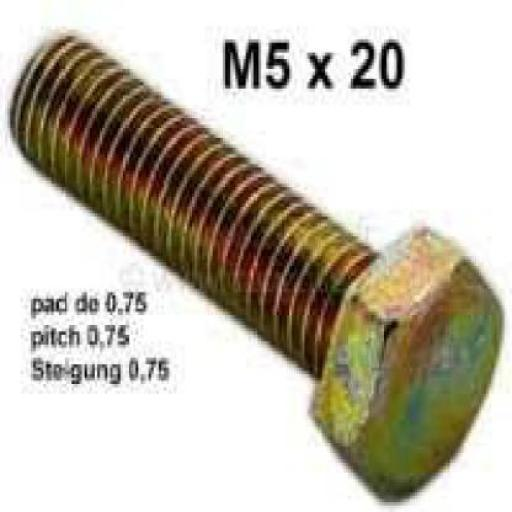Bolt: (8, 29, 505, 505)
